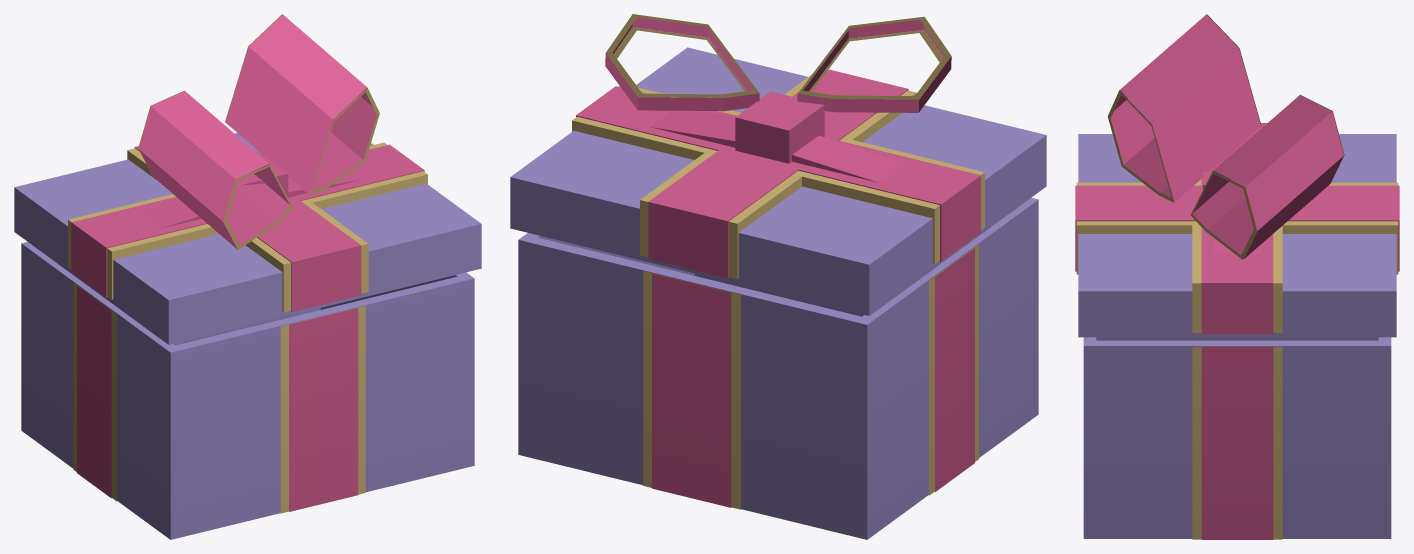
Rendered from gift.glb.
3 renders of one model, left to right at view 1: azimuth 30°, elevation 25°; view 2: azimuth 150°, elevation 25°; view 3: azimuth 270°, elevation 25°, orthographic. The views are drawn at different scales.
Parts seen in each view (by area): view 1: root_mesh, lid_mesh; view 2: root_mesh, lid_mesh; view 3: lid_mesh, root_mesh.
Part boxes in pixels (x1,y1,x2,y2): root_mesh: (21, 242, 474, 539); lid_mesh: (14, 14, 481, 344); root_mesh: (518, 197, 1038, 539); lid_mesh: (510, 14, 1046, 315); lid_mesh: (1075, 14, 1399, 337); root_mesh: (1083, 337, 1391, 539).
Size of the model in its own units: 0.7 by 0.8 by 0.6.
